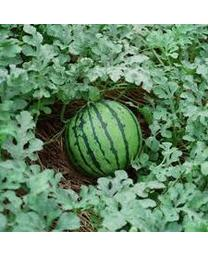watermelon: (63, 99, 146, 182)
